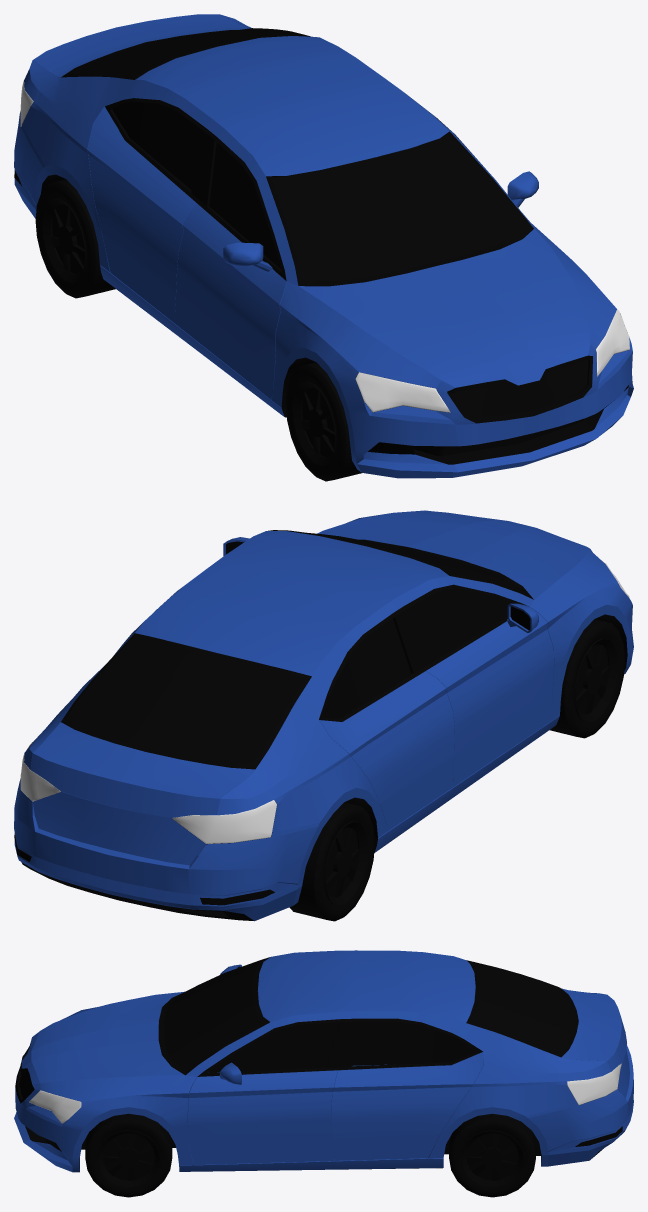
File: Skodamsupar.fbx
3 views of the same model, one above another, from view 1: azimuth 30°, elevation 25°; view 2: azimuth 150°, elevation 25°; view 3: azimuth 270°, elevation 25° (orthographic). The views are drawn at different scales.
Parts seen in each view (by area): view 1: skodasupar1_pPlane8, pCylinder8, pCylinder9; view 2: skodasupar1_pPlane8, pCylinder8, pCylinder9; view 3: skodasupar1_pPlane8, pCylinder7, pCylinder3.
Boxes of the visible parts, x1,y1,x2,y2 form: skodasupar1_pPlane8: (14, 14, 633, 478); pCylinder8: (35, 179, 115, 298); pCylinder9: (285, 362, 361, 481); skodasupar1_pPlane8: (14, 510, 633, 921); pCylinder8: (289, 802, 374, 921); pCylinder9: (549, 619, 624, 738); skodasupar1_pPlane8: (14, 950, 633, 1172); pCylinder7: (449, 1113, 535, 1197); pCylinder3: (85, 1113, 172, 1197).
Size of the model in its own units: 17.95 by 13 by 42.89.
